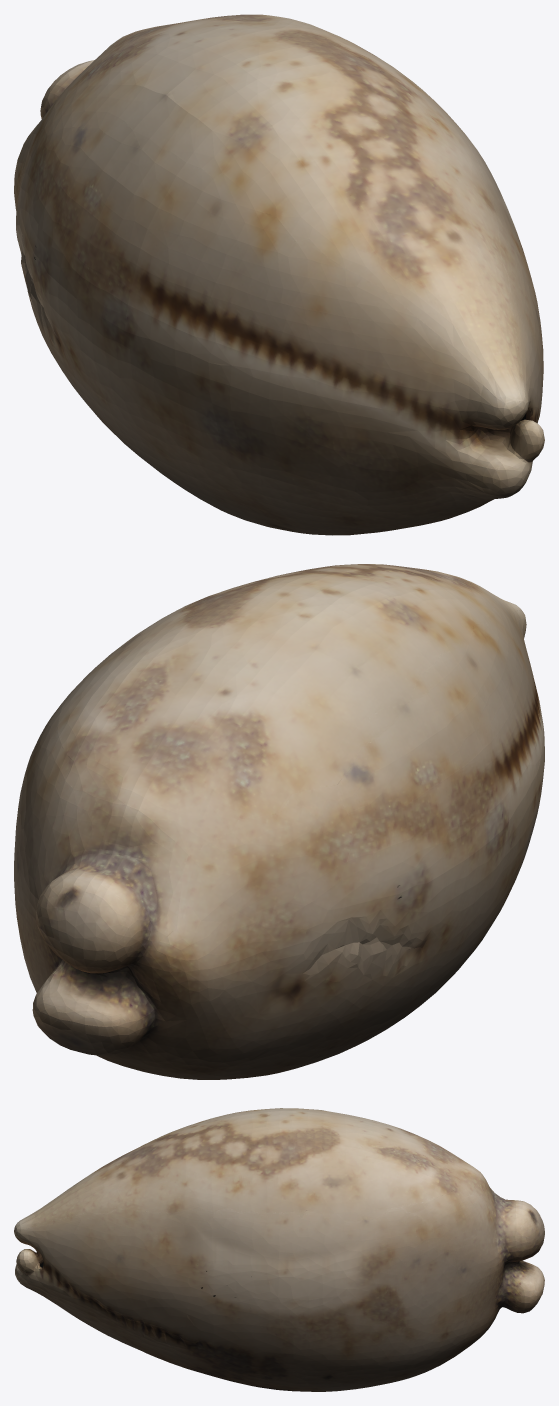
The picture shows the model from 3 angles, top to bottom: view 1: azimuth 30°, elevation 25°; view 2: azimuth 150°, elevation 25°; view 3: azimuth 270°, elevation 25°; orthographic projection. The views are drawn at different scales.
Parts seen in each view (by area): view 1: world; view 2: world; view 3: world.
Part boxes in pixels (bbox=[...]): world: bbox=[14, 14, 544, 535]; world: bbox=[14, 564, 544, 1079]; world: bbox=[14, 1108, 544, 1391].
Bounding box in the file's own units: 0.0386 × 0.0407 × 0.075.
2 materials, 2 textured.
